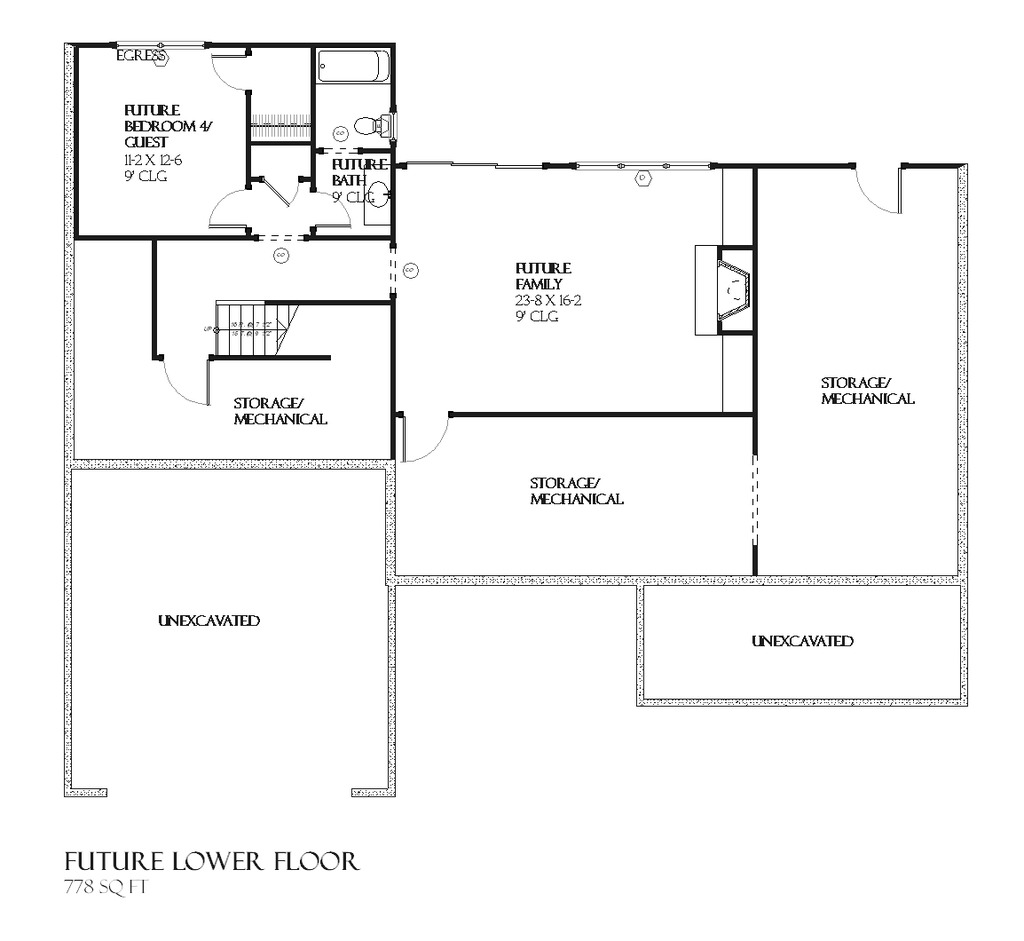door: (849, 154, 909, 217), (399, 404, 456, 467), (161, 356, 212, 414), (209, 48, 259, 97), (259, 168, 309, 216), (309, 183, 359, 230), (201, 187, 252, 231)
large_sink: (343, 104, 401, 151)
small_sink: (356, 156, 396, 236)
stairs: (198, 286, 393, 358)
tub: (315, 46, 395, 83)
window: (118, 38, 208, 57)
